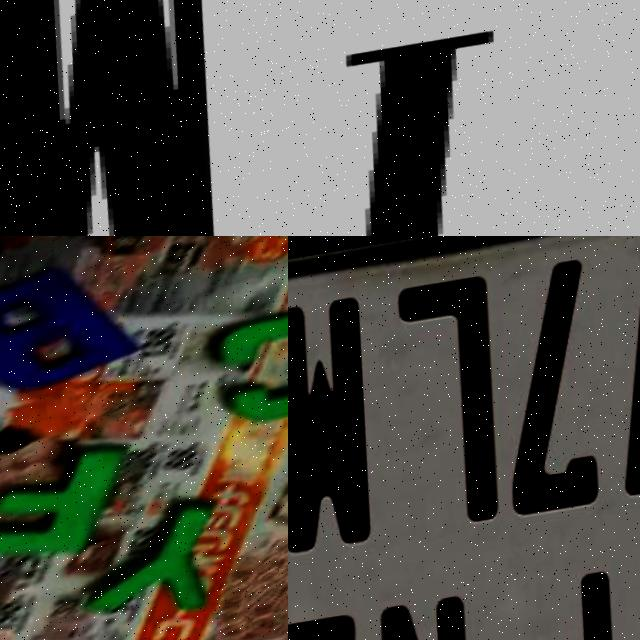7: (480, 260, 624, 521)
B: (0, 261, 142, 397)
C: (205, 297, 288, 430)
F: (0, 441, 134, 569)
L: (378, 277, 523, 537)
M: (0, 0, 288, 236), (288, 290, 398, 559)
T: (288, 21, 590, 236)
V: (596, 237, 640, 499)
Y: (87, 495, 239, 625), (535, 562, 640, 640)
